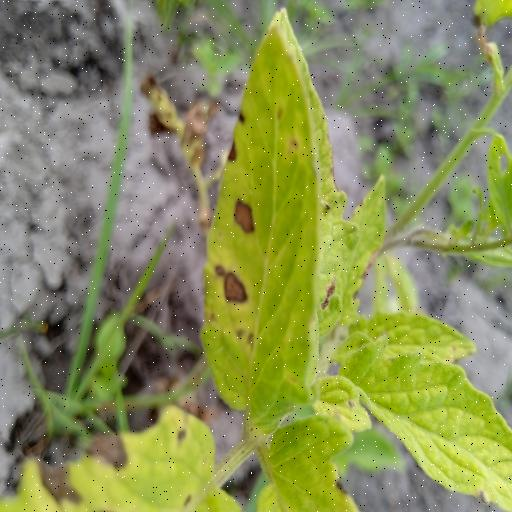Tomato_Brown_Spots: (196, 4, 342, 431)
